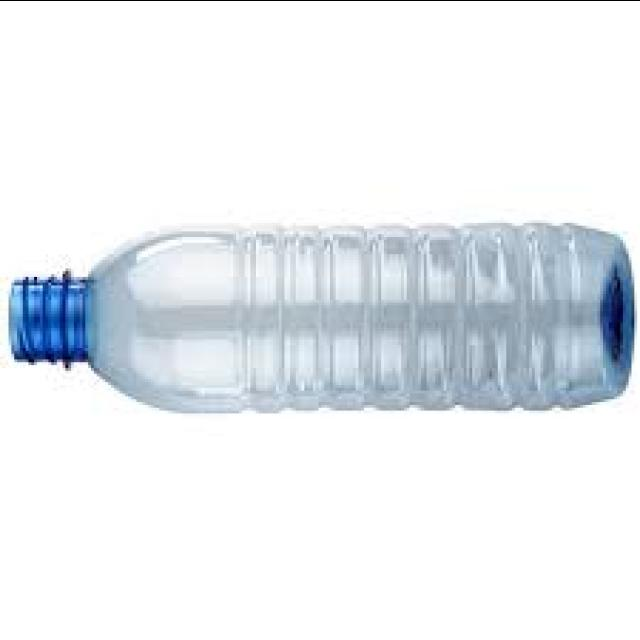plastic cup: (11, 224, 632, 411)
